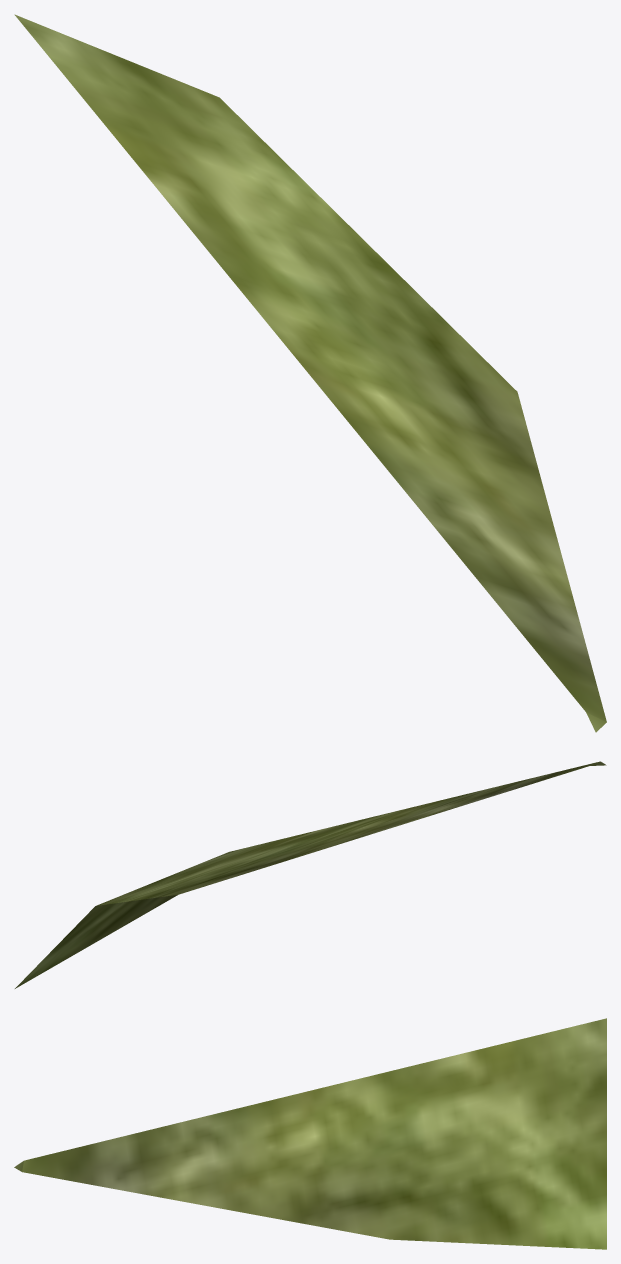
The picture shows the model from 3 angles, top to bottom: view 1: azimuth 30°, elevation 25°; view 2: azimuth 150°, elevation 25°; view 3: azimuth 270°, elevation 25°; orthographic projection. The views are drawn at different scales.
Size of the model in its own units: 0.337 by 0.2847 by 1.03.
Materials: 1 (1 with a texture image).
